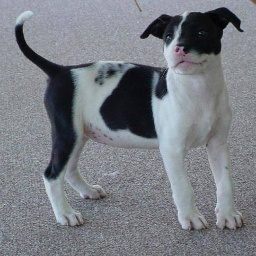dog: (15, 3, 246, 236)
